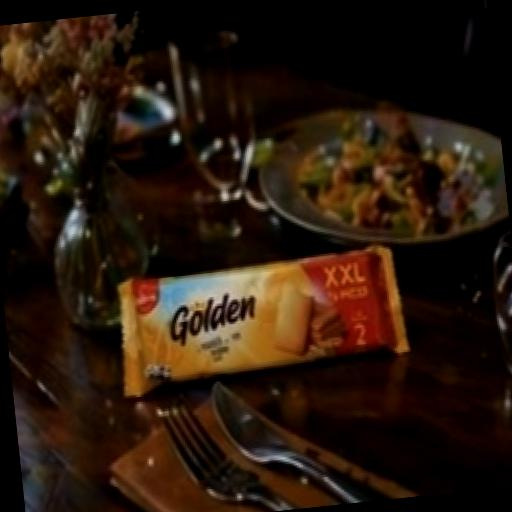golden: (82, 190, 468, 458)
